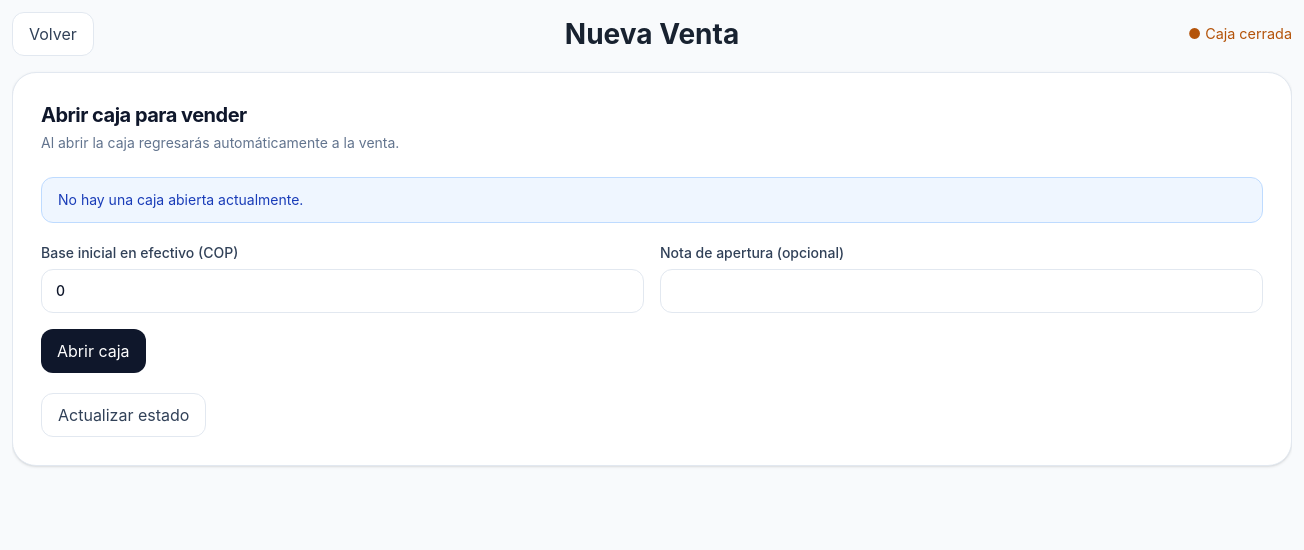
Test: SalesPage sequential flow › keeps opening visible if the server rejects the opening
The width and height of the screenshot is (1304, 550).
What coordinates should you click on to do the following:
click the button "Abrir caja"
I would click on:
 (93, 351)
Its box is [41,329,146,373].
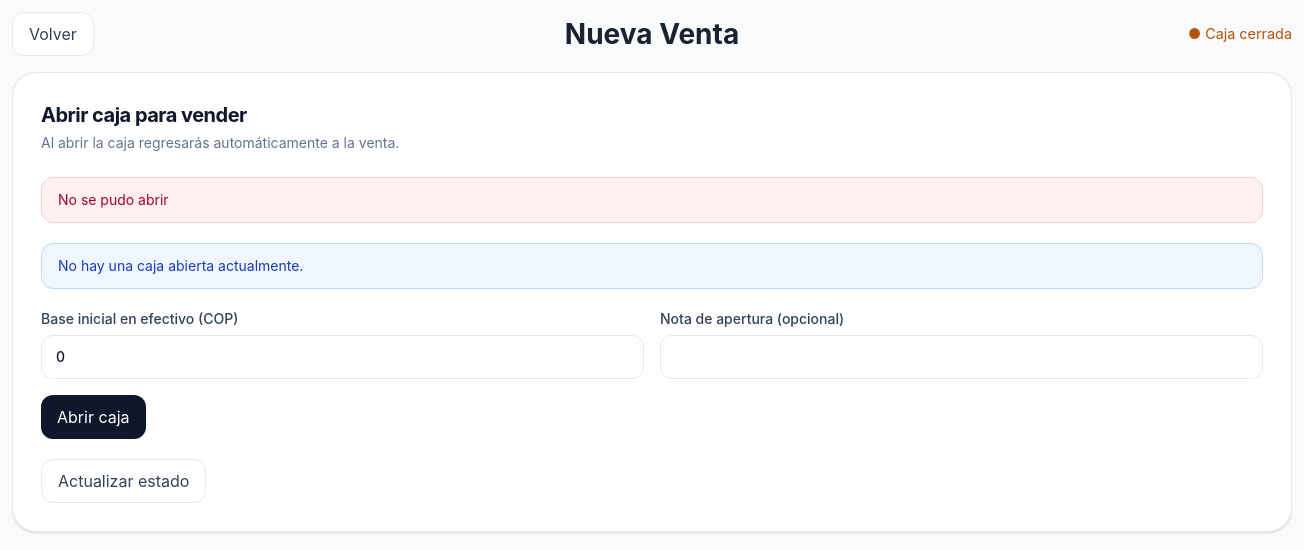
Expected: the text "No se pudo abrir" is shown, [41,177,1263,223]
